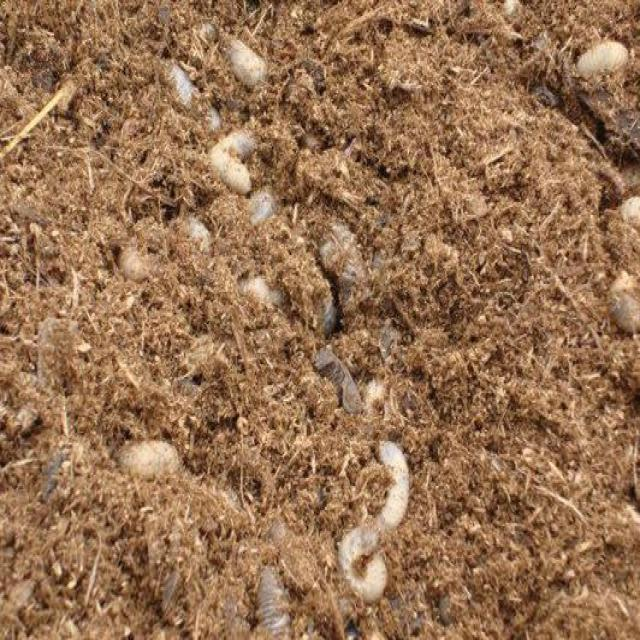Grub-Adult-: (332, 430, 427, 610), (112, 416, 195, 498), (554, 19, 639, 94), (200, 115, 270, 191)
